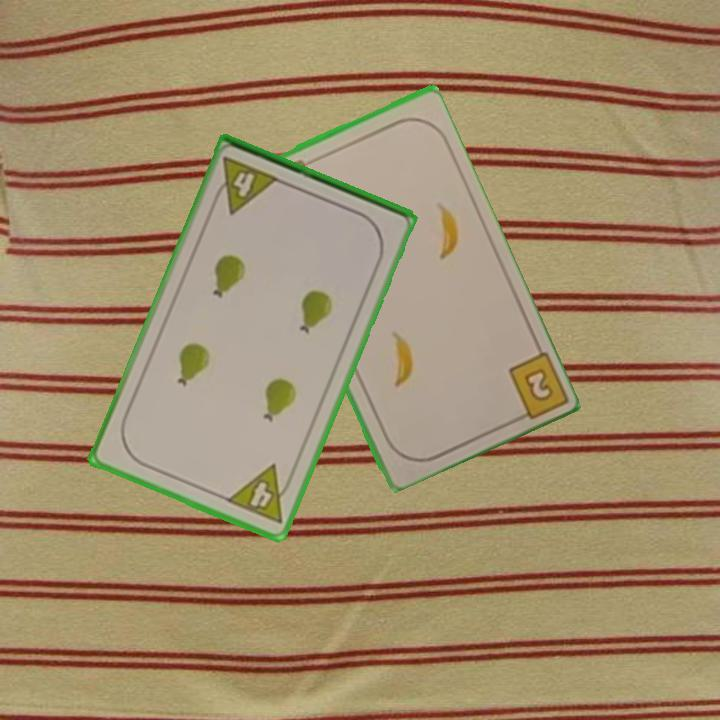2b: (504, 346, 568, 426)
4p: (222, 461, 298, 527), (208, 153, 282, 217)
